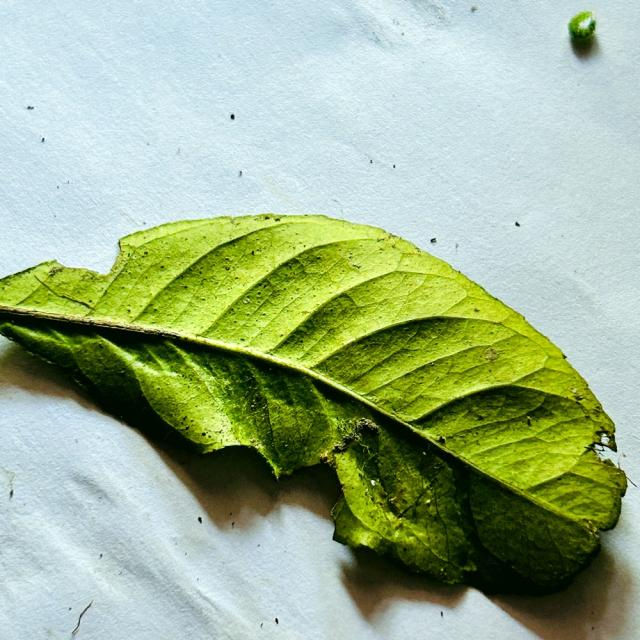Deficiency Leaf: (206, 444, 339, 550), (53, 237, 121, 274), (597, 435, 628, 476)
Lemon: (0, 214, 626, 591)
